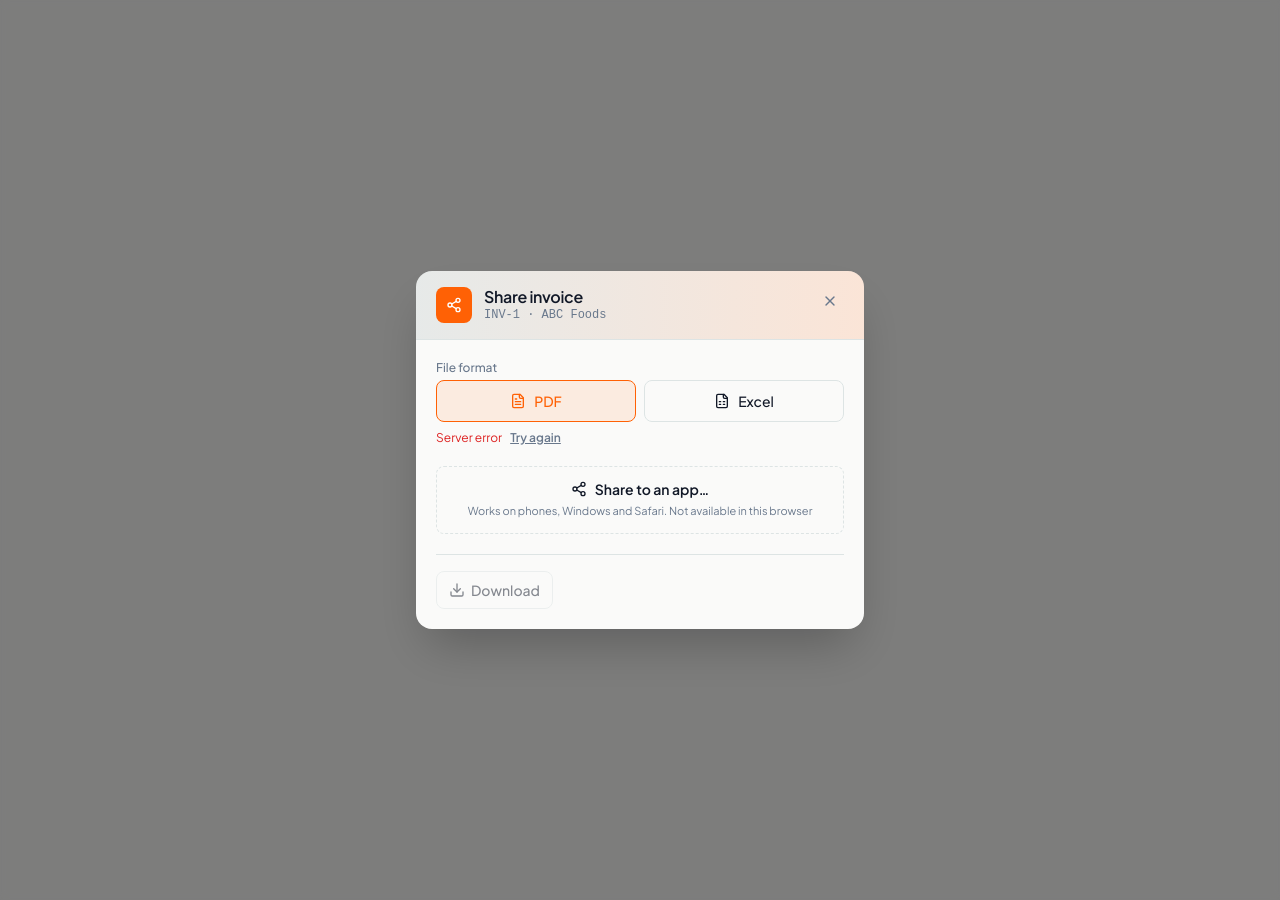
Test: ShareInvoiceDialog › shows the problem and lets you retry when the file cannot be prepared
Expected: the text "Server error" is shown, [436, 430, 502, 446]
Expected: the button "Download" is disabled, [436, 571, 553, 609]
Click the button "Try again" at (536, 438), box [510, 430, 561, 446]
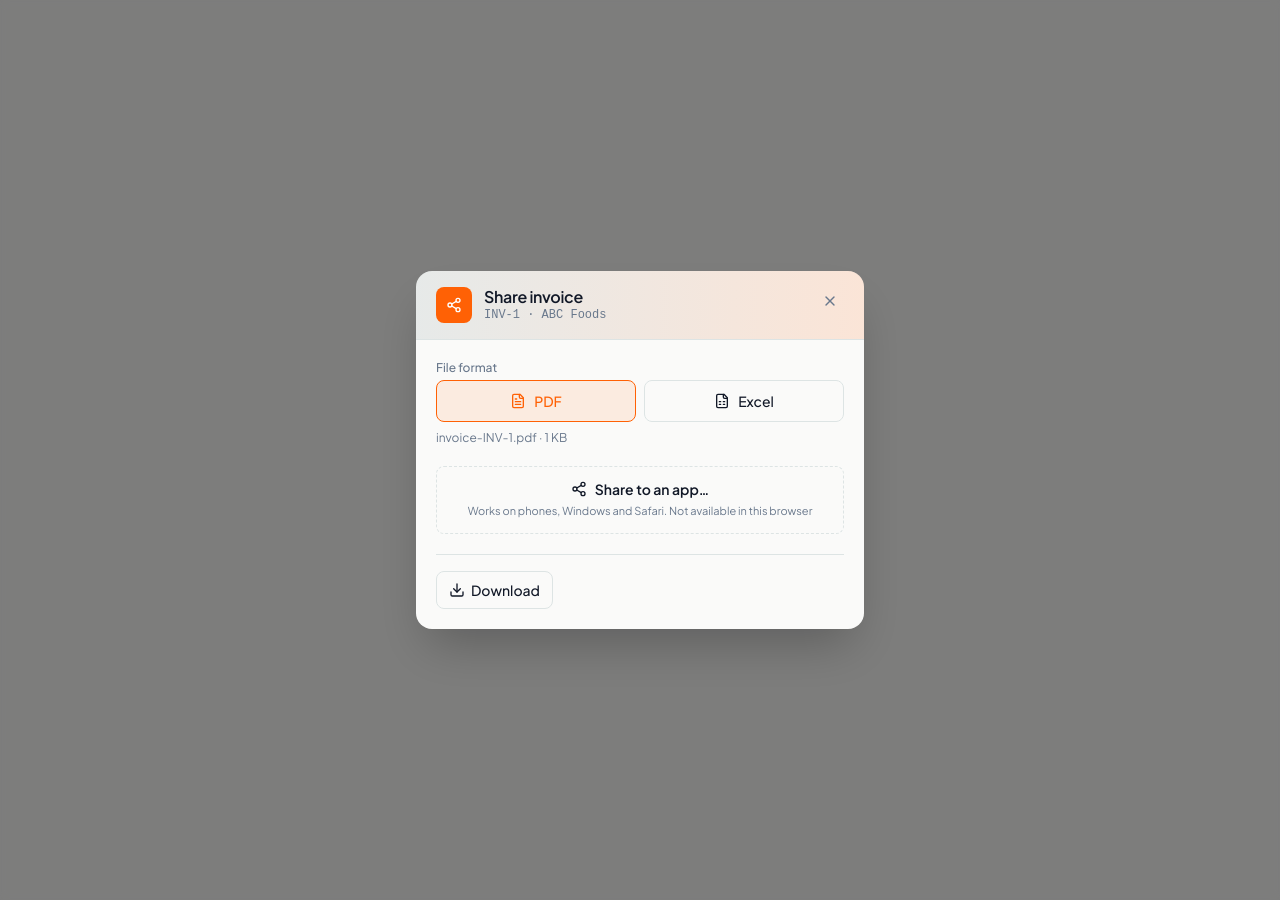
Result: the text "invoice-INV-1.pdf · 1 KB" is shown at [436, 430, 567, 446]
